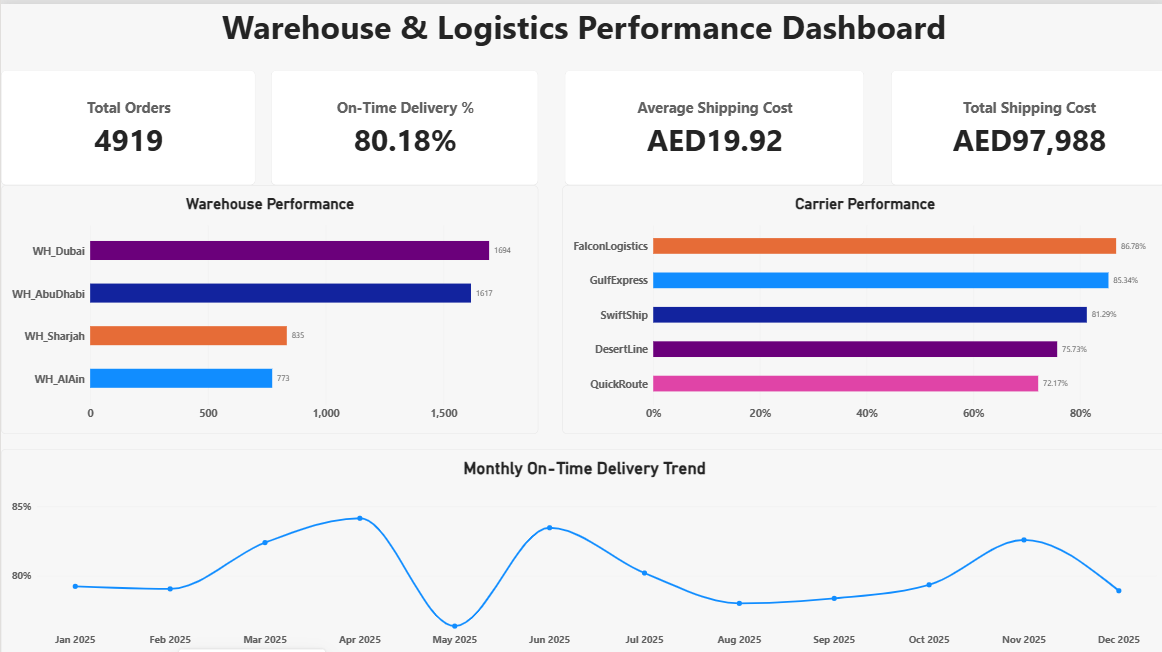

Layout of this report page (visuals, bound fields, positions):
{"tool":"powerbi","page":{"name":"Executive Overview","canvas":[1920,1080],"ordinal":0},"visuals":[{"type":"cardVisual","fields":{"Data":["warehouse_logistics carriers.Total Orders"]},"box":[0,107,419.9,191.4],"z":0},{"type":"cardVisual","fields":{"Data":["warehouse_logistics carriers.On-Time Delivery %"]},"box":[444.6,107,440.5,191.4],"z":1},{"type":"cardVisual","fields":{"Data":["warehouse_logistics carriers.Average Shipping Cost"]},"box":[928.3,107,494,191.4],"z":2},{"type":"cardVisual","fields":{"Data":["warehouse_logistics carriers.Total Shipping Cost"]},"box":[1465.5,107,454.9,191.4],"z":3},{"type":"clusteredBarChart","title":"Warehouse Performance","fields":{"Category":["warehouse_logistics warehouses.warehouse_name"],"Series":["warehouse_logistics warehouses.warehouse_name"],"Y":["CountNonNull(warehouse_logistics orders_clean.order_id)"]},"box":[0,298.5,885.1,409.6],"z":4},{"type":"clusteredBarChart","title":"Carrier Performance","fields":{"Category":["warehouse_logistics carriers.carrier_name"],"Series":["warehouse_logistics carriers.carrier_name"],"Y":["warehouse_logistics carriers.On-Time Delivery %"]},"box":[924.2,298.5,996.2,409.6],"z":5},{"type":"lineChart","title":"Monthly On-Time Delivery Trend","fields":{"Category":["warehouse_logistics orders_clean.Order Month"],"Y":["warehouse_logistics carriers.On-Time Delivery %"]},"box":[0,732.8,1920.4,347.9],"z":6},{"type":"textbox","box":[0,0,1920.4,107],"z":7}]}

Visuals, with their boxes in screenshot pixels (x1, y1, x2, y2), scaled from the page's 1920x1080 canvas onto the 1162x652 screenshot:
cardVisual - warehouse_logistics carriers.Total Orders: (x1=0, y1=65, x2=254, y2=180)
cardVisual - warehouse_logistics carriers.On-Time Delivery %: (x1=269, y1=65, x2=536, y2=180)
cardVisual - warehouse_logistics carriers.Average Shipping Cost: (x1=562, y1=65, x2=861, y2=180)
cardVisual - warehouse_logistics carriers.Total Shipping Cost: (x1=887, y1=65, x2=1161, y2=180)
"Warehouse Performance" clusteredBarChart: (x1=0, y1=180, x2=536, y2=427)
"Carrier Performance" clusteredBarChart: (x1=559, y1=180, x2=1161, y2=427)
"Monthly On-Time Delivery Trend" lineChart: (x1=0, y1=442, x2=1161, y2=651)
textbox: (x1=0, y1=0, x2=1161, y2=65)
